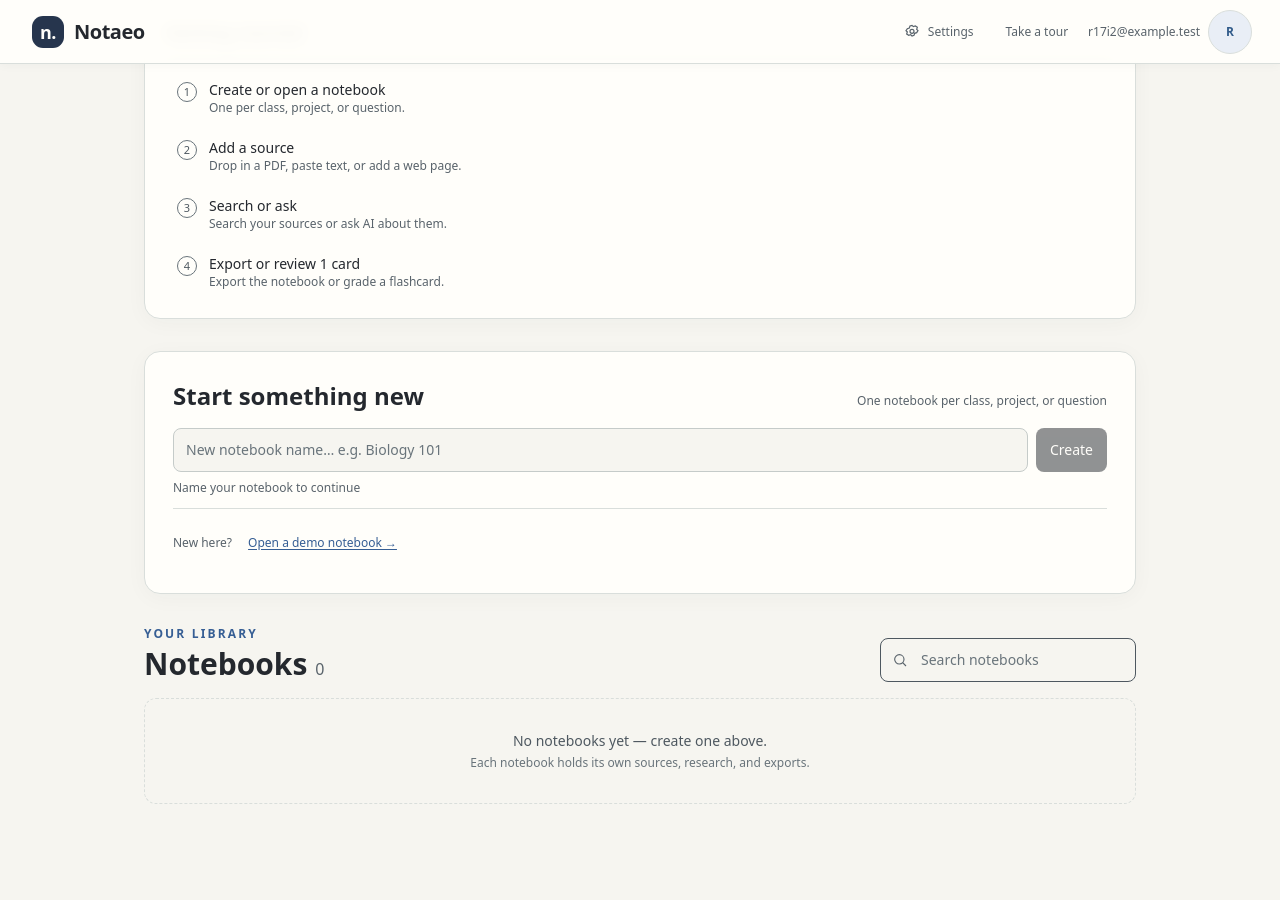
Scenario: focuses the add-source entry control after create and keeps the announcement
(page scrolled)
Type "Chemistry 101" into the field with placeholder "New notebook name… e.g. Biology 101". click: (600, 450)
box: [173,428,1028,472]
(page scrolled)
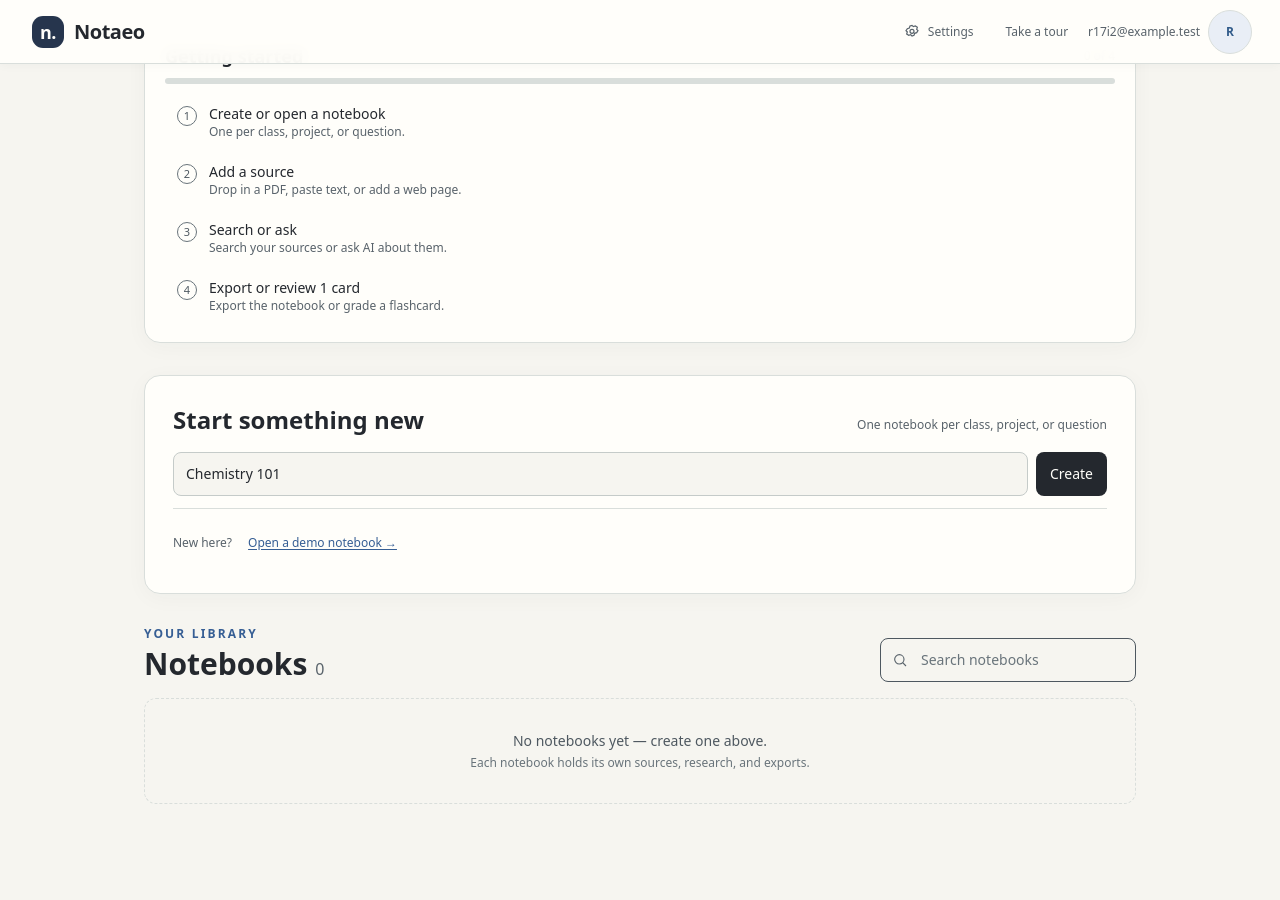
Click the button "Create". click: (1071, 474)
box: [1036,452,1107,496]
(page scrolled)
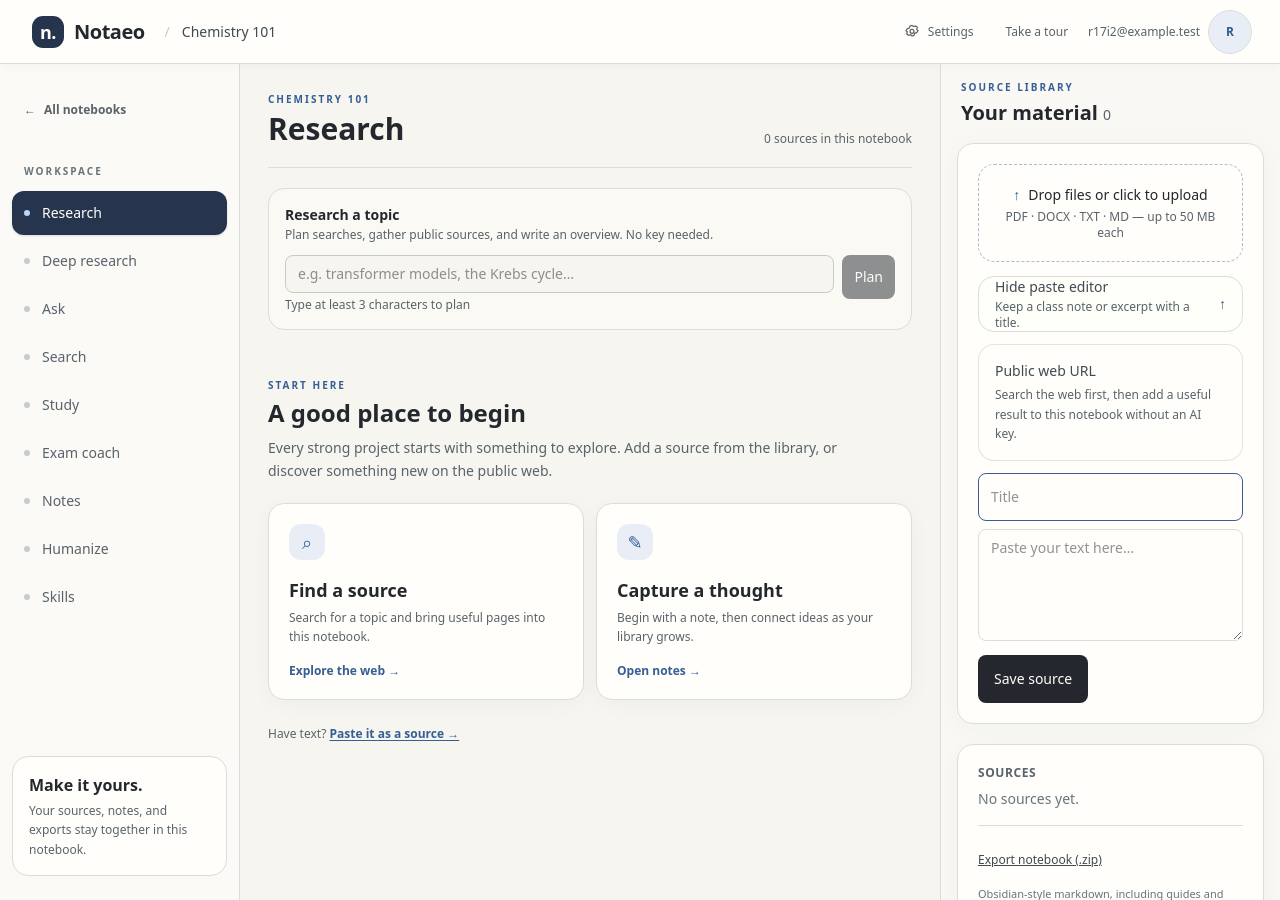
expect the element named "Add sources" is shown: met, box [957,143,1264,724]
